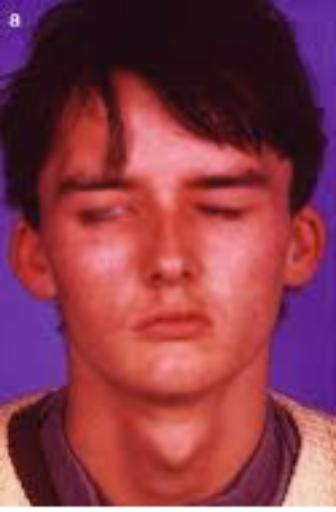left_eye: (191, 196, 266, 222)
left_lip_corner: (201, 311, 217, 334)
right_eye: (75, 198, 141, 227)
right_lip_corner: (132, 320, 152, 335)
